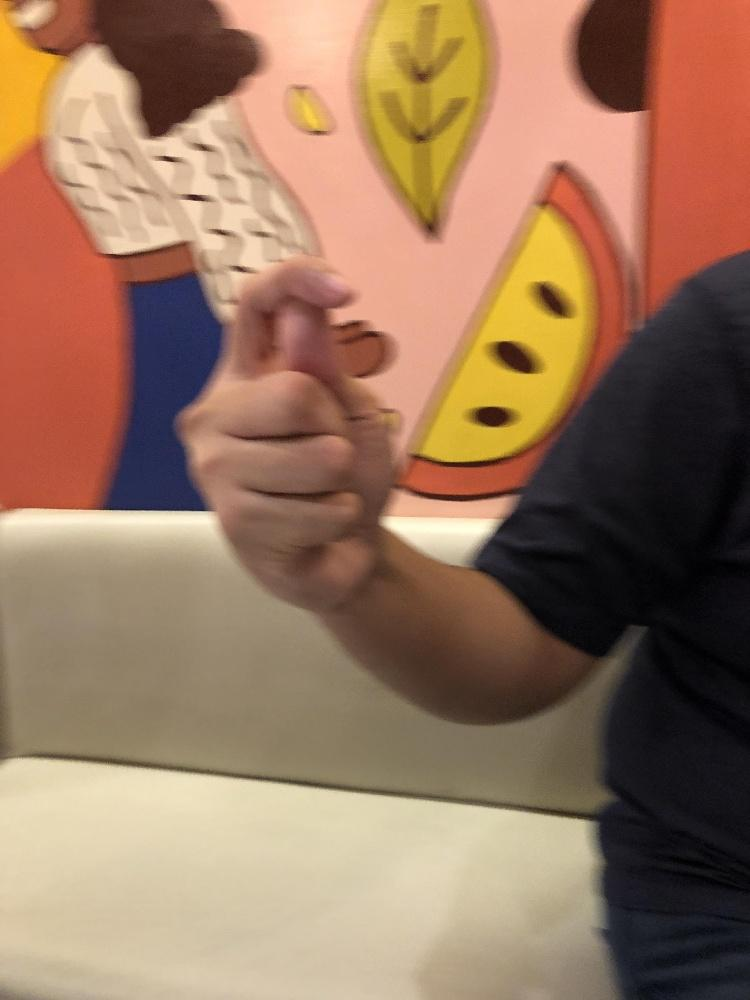t: (170, 253, 394, 614)
